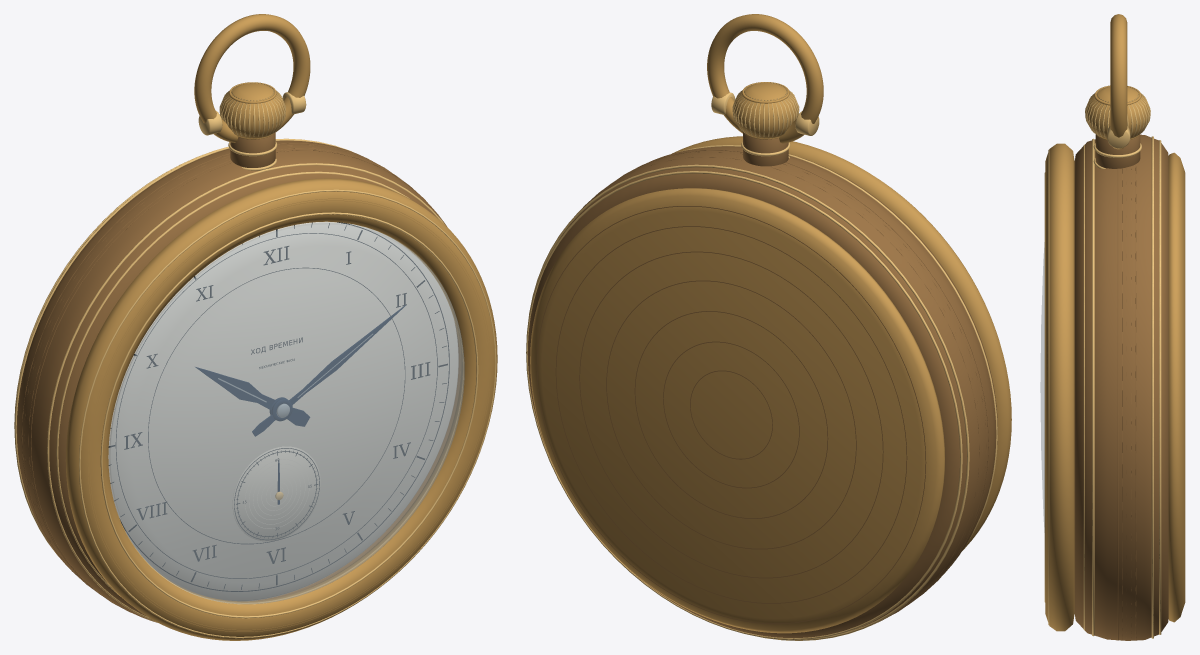
Rendered from pocket-watch.glb.
3 views of the same model, side by side, from view 1: azimuth 30°, elevation 25°; view 2: azimuth 150°, elevation 25°; view 3: azimuth 270°, elevation 25° (orthographic).
Parts seen in each view (by area): view 1: front_glass_geometry, dial_face_geometry, front_bezel_geometry, case_body_geometry, bow_geometry, crown_geometry, hand_minute_geometry, hand_hour_geometry; view 2: back_cover_geometry, case_body_geometry, front_bezel_geometry, bow_geometry, crown_geometry; view 3: case_body_geometry, front_bezel_geometry, back_cover_geometry, bow_geometry, crown_geometry, front_glass_geometry.
Boxes of the visible parts, x1,y1,x2,y2 form: front_glass_geometry: [109, 222, 464, 604]; dial_face_geometry: [108, 221, 458, 601]; front_bezel_geometry: [65, 178, 497, 640]; case_body_geometry: [14, 132, 460, 622]; bow_geometry: [194, 14, 310, 142]; crown_geometry: [219, 82, 285, 139]; hand_minute_geometry: [252, 305, 405, 436]; hand_hour_geometry: [195, 367, 309, 426]; back_cover_geometry: [530, 188, 944, 633]; case_body_geometry: [526, 132, 997, 640]; front_bezel_geometry: [672, 136, 1011, 550]; bow_geometry: [707, 14, 823, 143]; crown_geometry: [732, 82, 799, 139]; case_body_geometry: [1074, 134, 1168, 640]; front_bezel_geometry: [1044, 143, 1074, 631]; back_cover_geometry: [1168, 152, 1185, 622]; bow_geometry: [1107, 14, 1130, 149]; crown_geometry: [1085, 85, 1150, 140]; front_glass_geometry: [1040, 242, 1044, 532].
Bounding box in the file's own units: 2.83 × 3.68 × 0.809.
